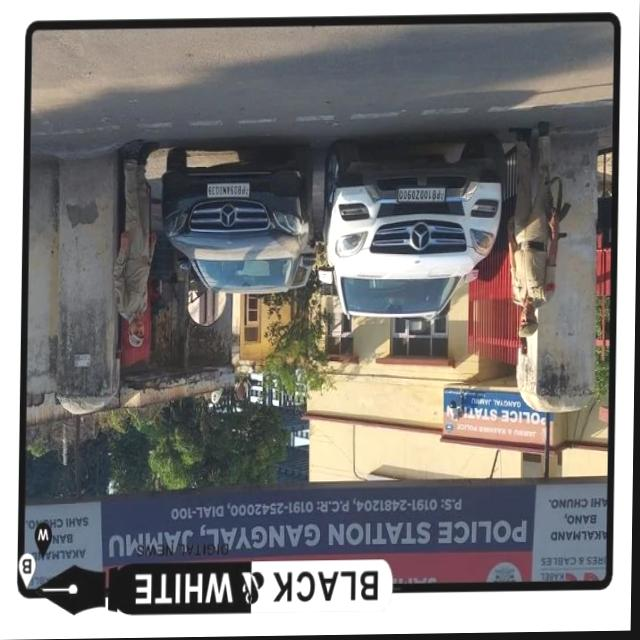plate: (395, 186, 451, 207), (205, 180, 254, 202)
